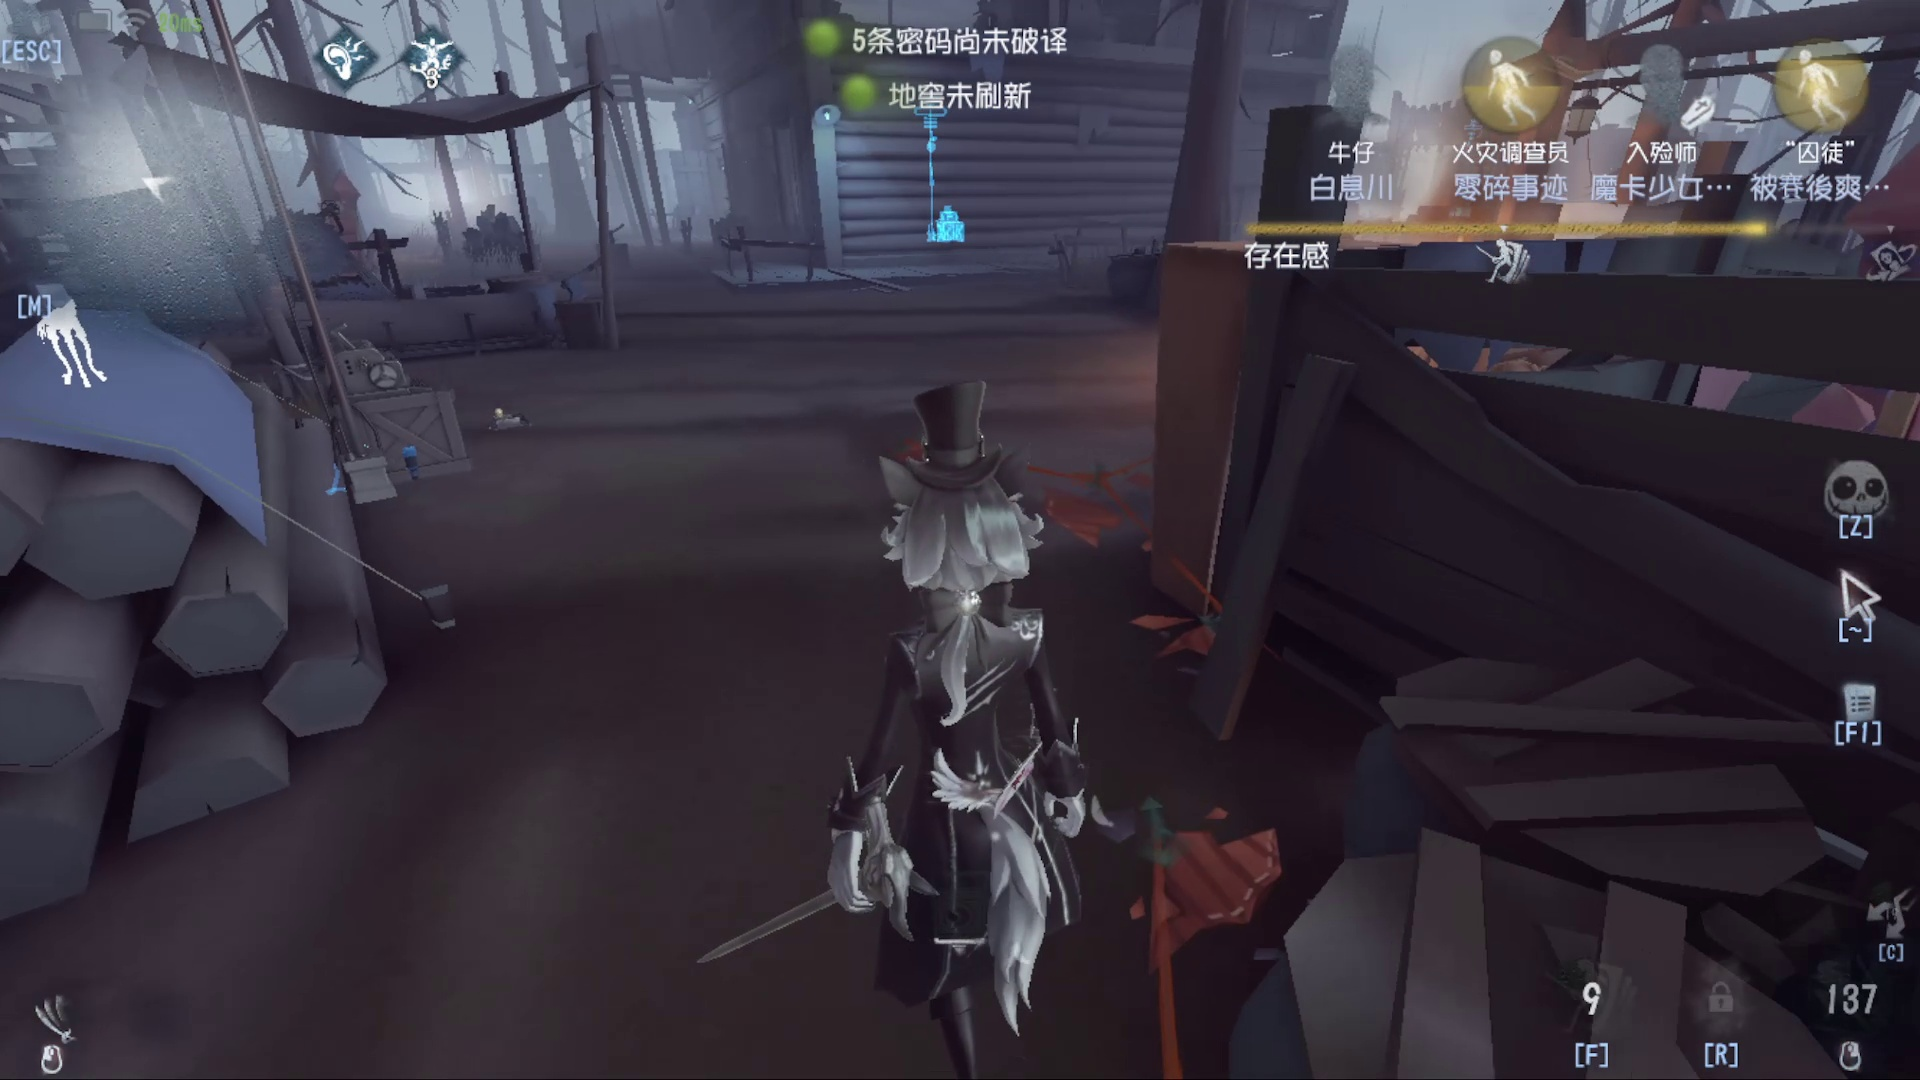密码机: (262, 291, 522, 513), (880, 90, 1000, 270)
